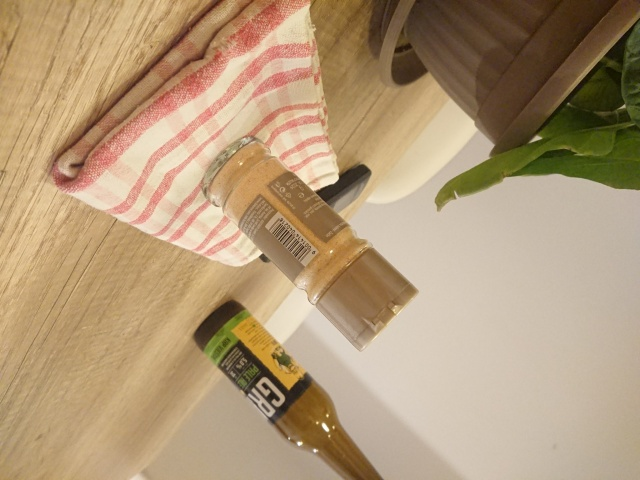Kotanyi Garlic Granules 70g: (195, 131, 423, 356)
